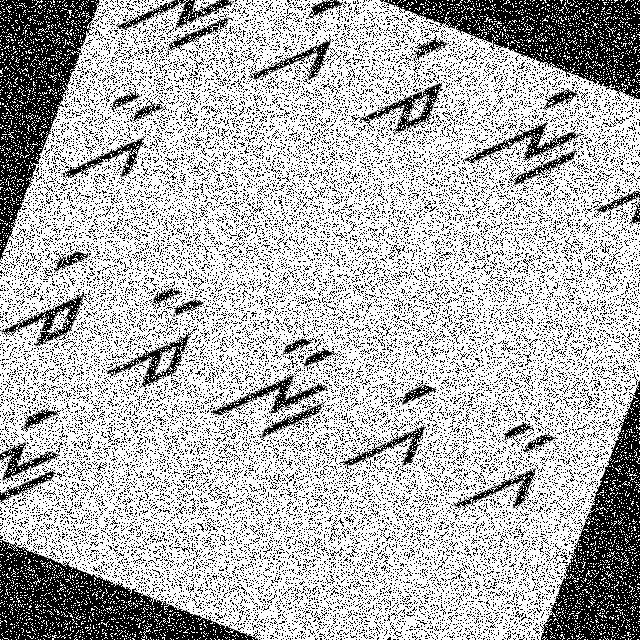gan: (448, 402, 570, 540), (55, 72, 172, 206)
gang: (337, 358, 445, 492), (237, 0, 361, 111)
ngan: (206, 312, 351, 461), (106, 0, 260, 76)
ngang: (451, 57, 603, 206), (0, 372, 89, 525)
tan: (103, 269, 221, 408), (592, 112, 639, 245)
tang: (351, 18, 471, 157), (0, 231, 105, 361)
